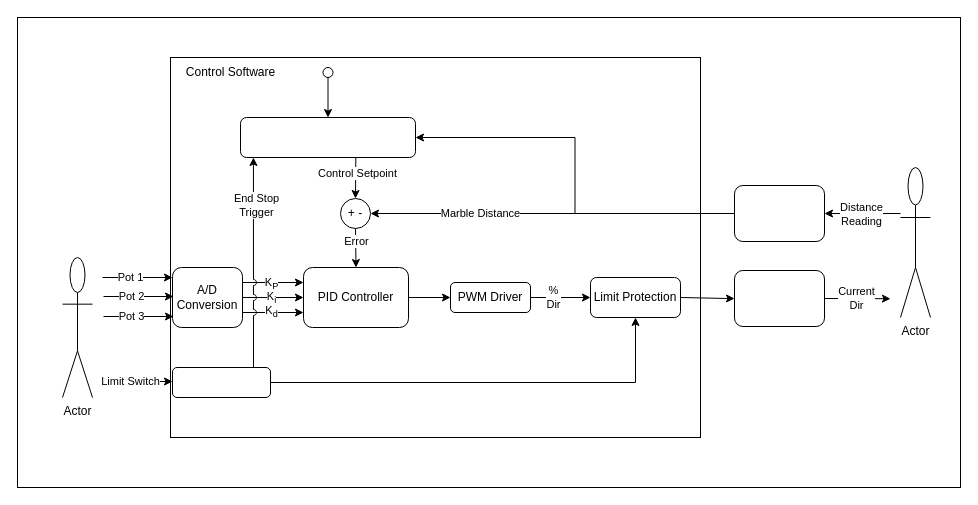
Some shapes in this 978 by 505 pixel diagram are drawn without their labels. The shapes that lost their labels are listed below. From the top down, each one's centre as x and y in pixels, then its label:
At (328,137): "Auto Calibration Sequence".
At (779,213): "Distance Sensor".
At (779,298): "Motor Driver (H-bridge)".
At (221,382): "Digital Input".
